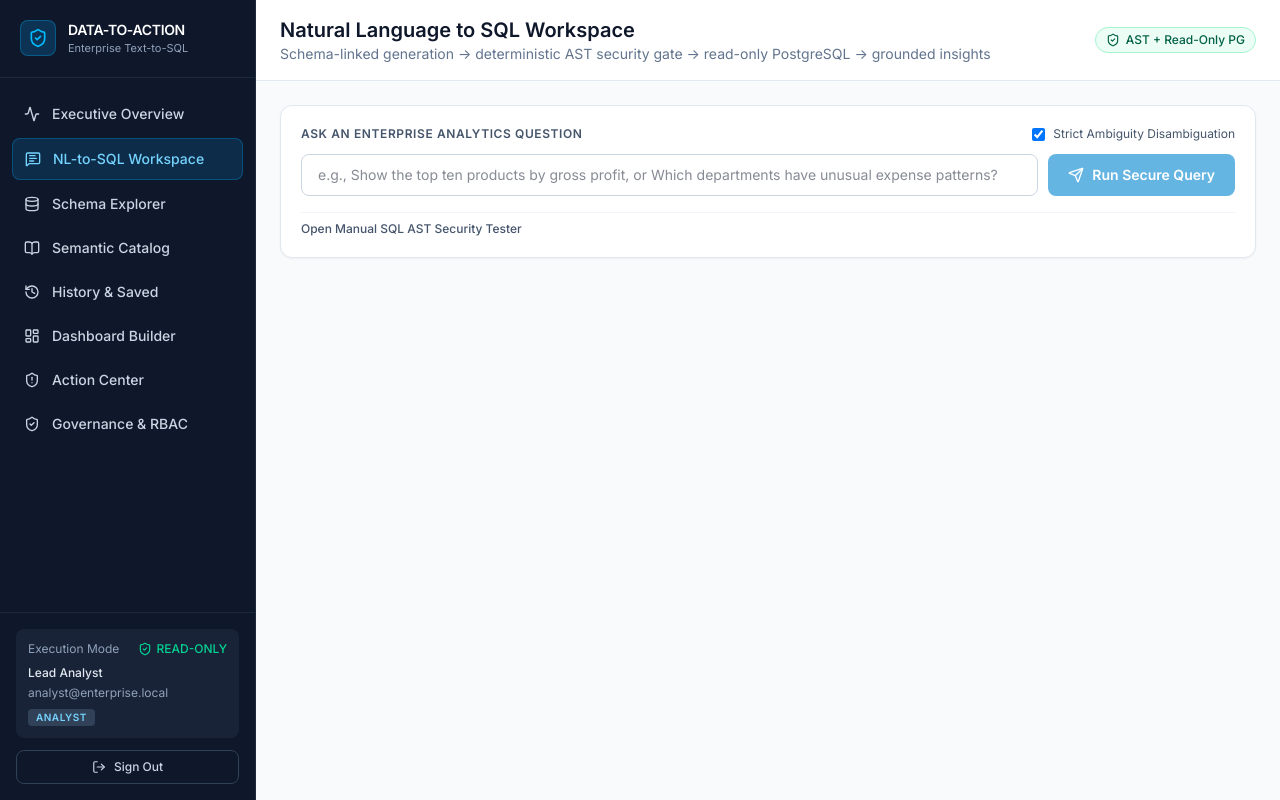
it: QueryWorkspacePage › displays Validation Rejected safely when AST validator blocks unsafe SQL
Replace the text in the field labelled "Ask an Enterprise Analytics Question" with "Drop table orders": [670, 175] box top-left (301, 154), bottom-right (1038, 196)
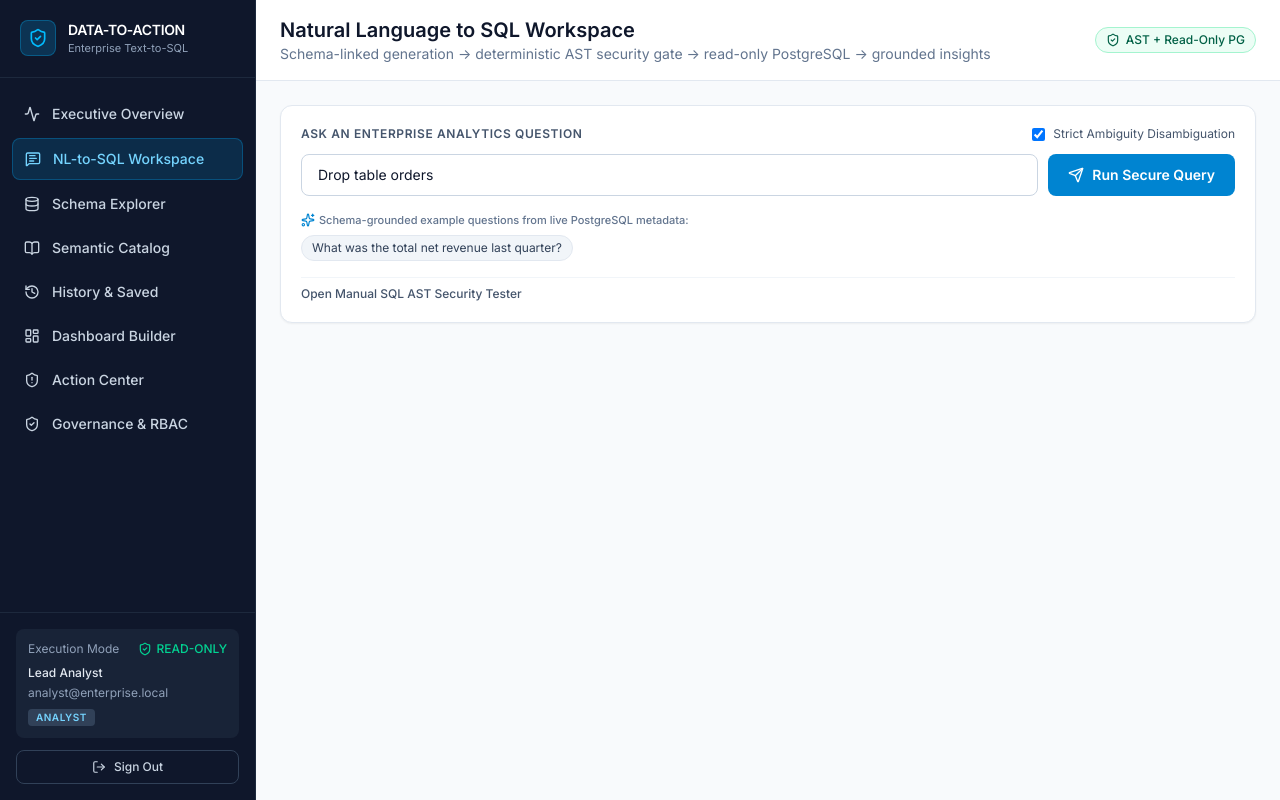
Click the button "Run Secure Query": [1142, 175] box top-left (1048, 154), bottom-right (1235, 196)
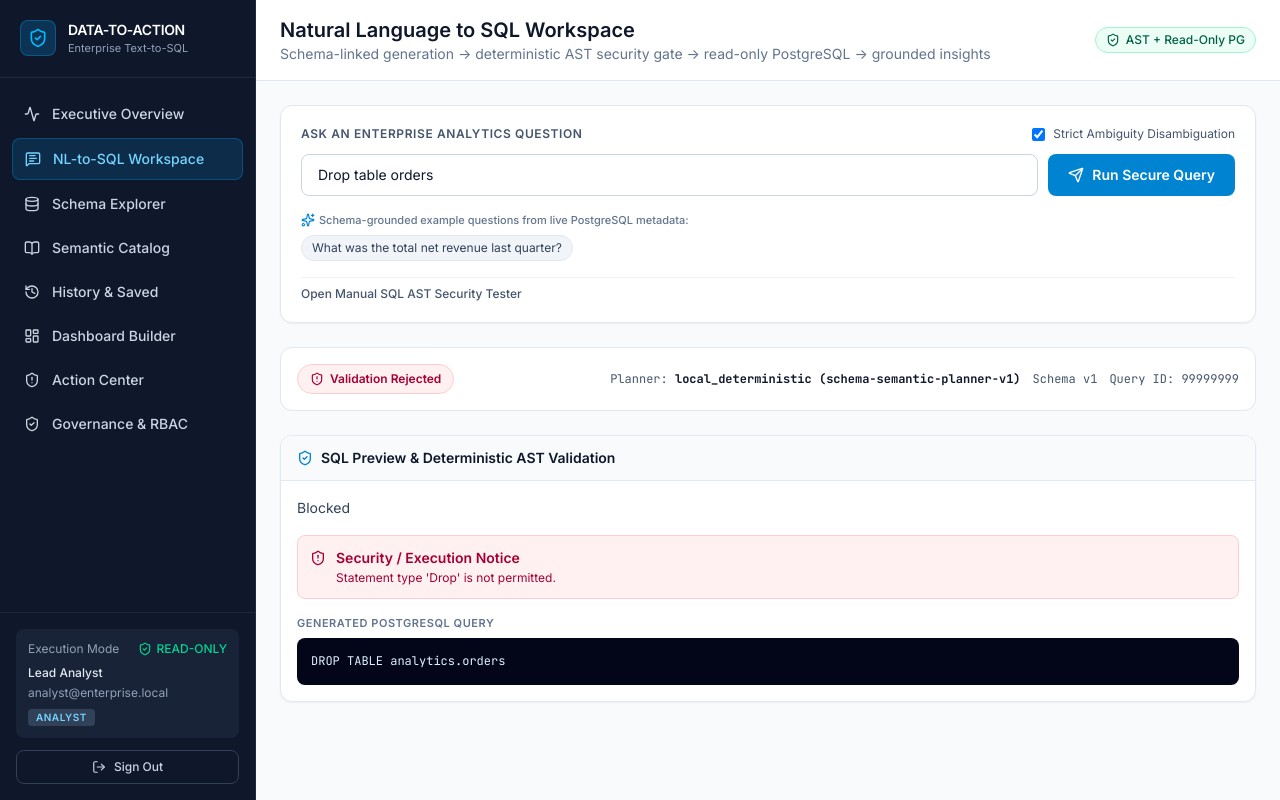
Now the text "Validation Rejected" is shown, box top-left (330, 370), bottom-right (441, 386)
Now the text "Statement type 'Drop' is not permitted." is shown, box top-left (336, 570), bottom-right (556, 586)
